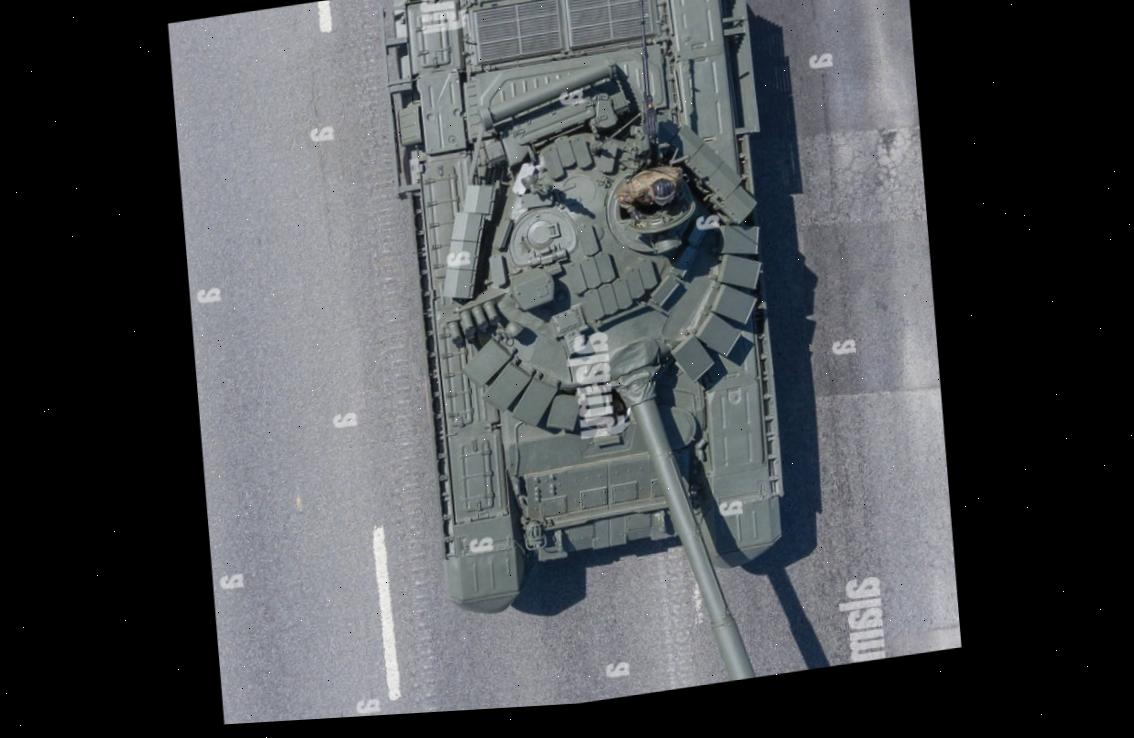tank: (371, 0, 815, 716)
